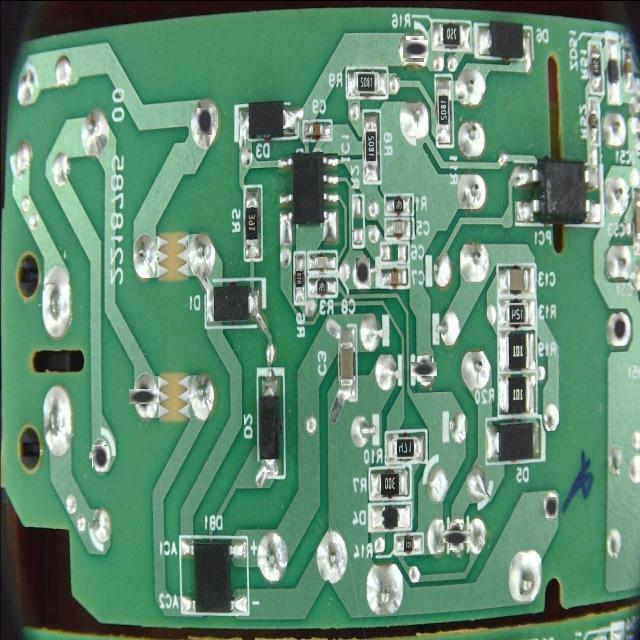damged: (132, 385, 156, 408), (404, 38, 426, 60), (196, 107, 212, 135), (446, 526, 467, 547), (414, 359, 435, 379), (356, 258, 370, 287), (92, 445, 107, 468), (612, 317, 626, 341), (545, 496, 557, 518)
